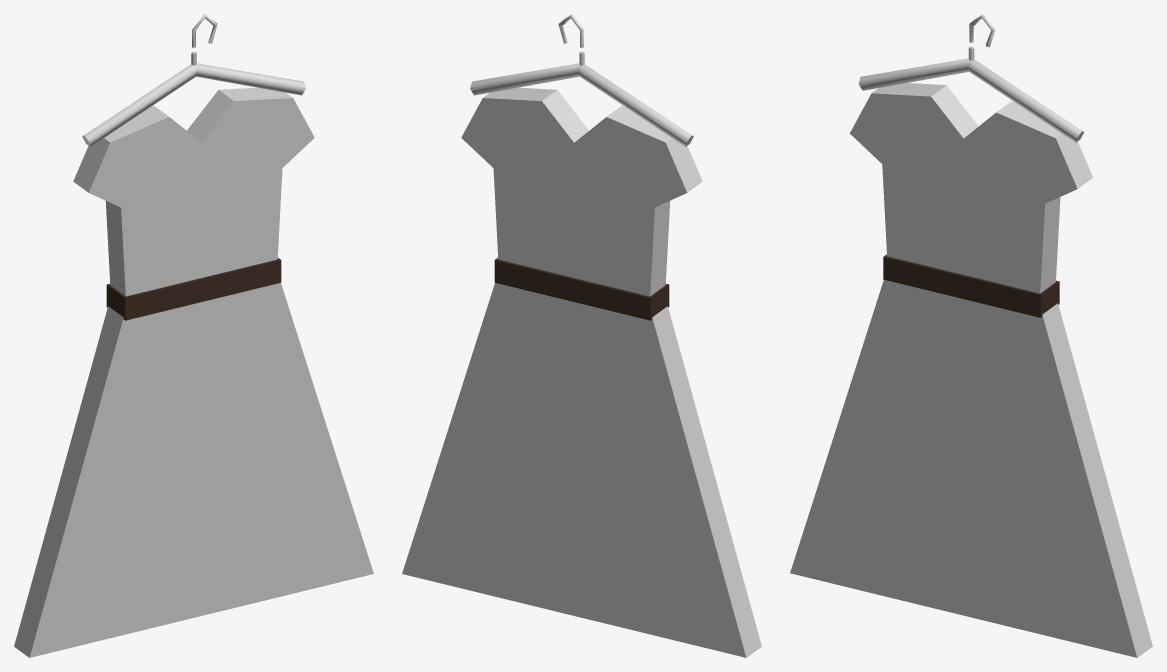
Rendered from garment_dress.glb.
3 renders of one model, left to right at view 1: azimuth 30°, elevation 25°; view 2: azimuth 150°, elevation 25°; view 3: azimuth 330°, elevation 25°, orthographic.
Visible parts, largest first — view 1: garment_dress; view 2: garment_dress; view 3: garment_dress.
Part boxes in pixels (left/top/right/bottom): garment_dress: left=14, top=14, right=373, bottom=657; garment_dress: left=402, top=14, right=761, bottom=657; garment_dress: left=790, top=14, right=1152, bottom=657.
Bounding box in the file's own units: 0.64 × 1.05 × 0.06.
